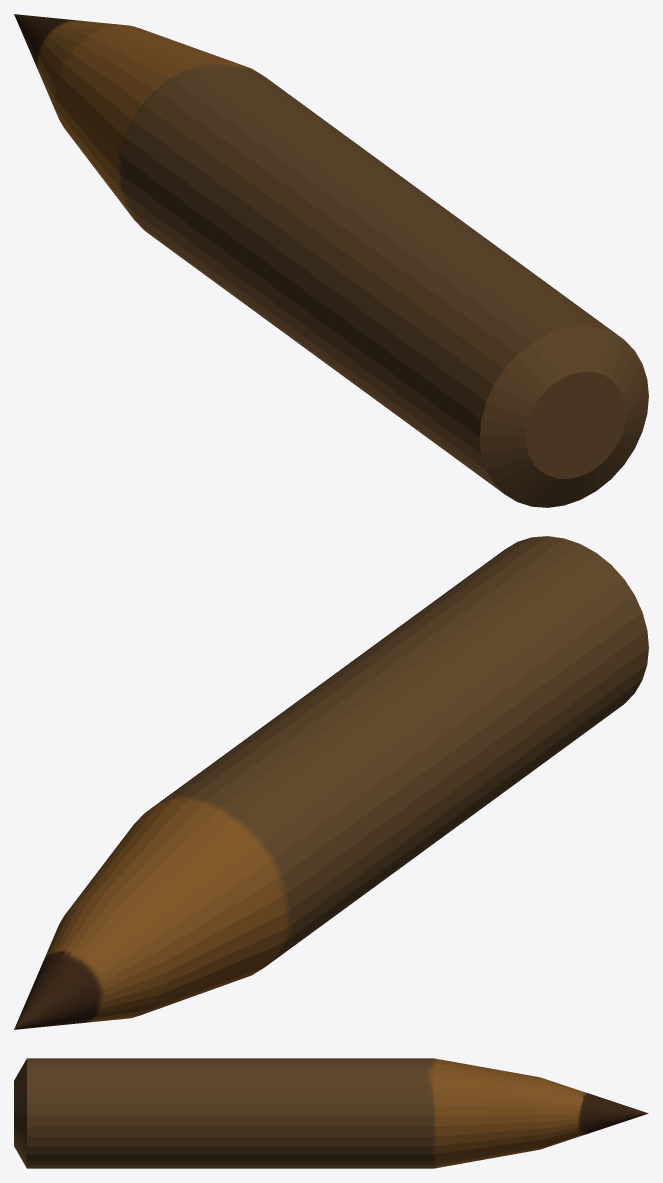
Rendered from bullet.obj.
3 views of the same model, one above another, from view 1: azimuth 30°, elevation 25°; view 2: azimuth 150°, elevation 25°; view 3: azimuth 270°, elevation 25° (orthographic). The views are drawn at different scales.
Visible parts, largest first — view 1: 円柱; view 2: 円柱; view 3: 円柱.
Part boxes in pixels (left/top/right/bottom): 円柱: left=14, top=14, right=648, bottom=507; 円柱: left=14, top=536, right=648, bottom=1029; 円柱: left=14, top=1058, right=648, bottom=1168.
Size of the model in its own units: 1.3 by 1.3 by 7.5.
Materials: 1 (1 with a texture image).
